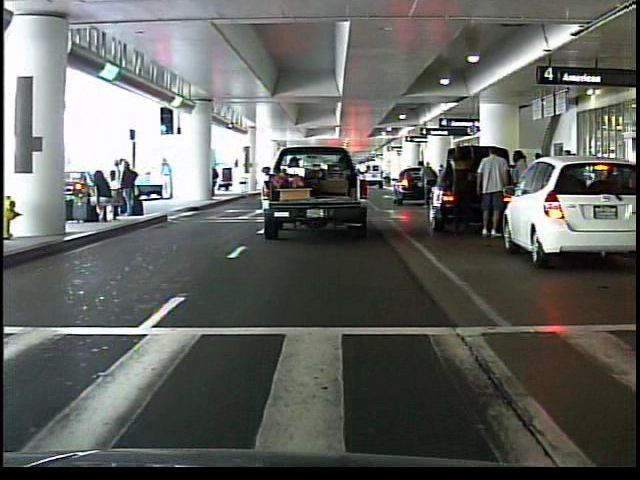person: (445, 139, 479, 237), (473, 144, 507, 240), (507, 146, 531, 237), (416, 158, 441, 207), (160, 156, 177, 200)
